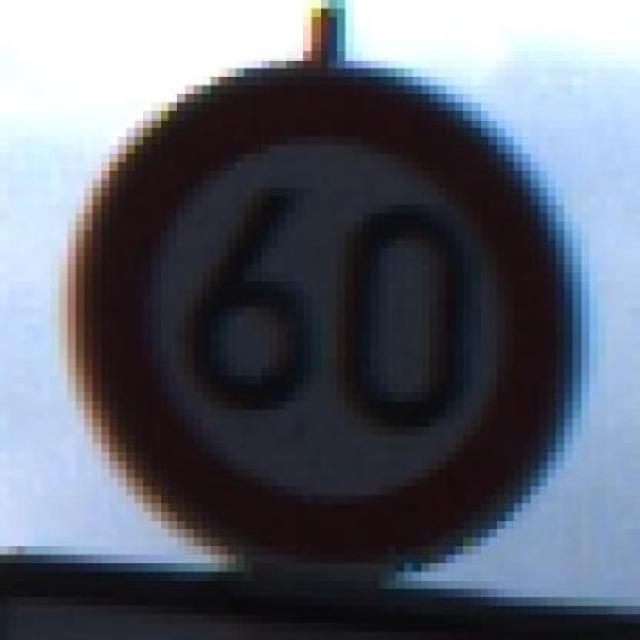forb_speed_over_60: (75, 66, 576, 571)
